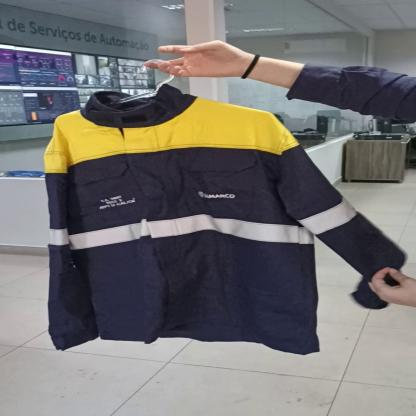C_eletrica: (38, 88, 408, 351)
